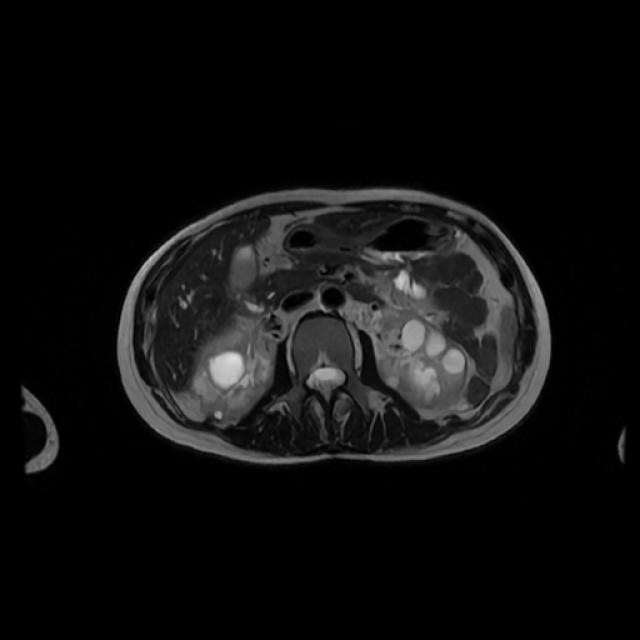sag: (192, 321, 280, 417)
sol: (376, 307, 466, 412)
